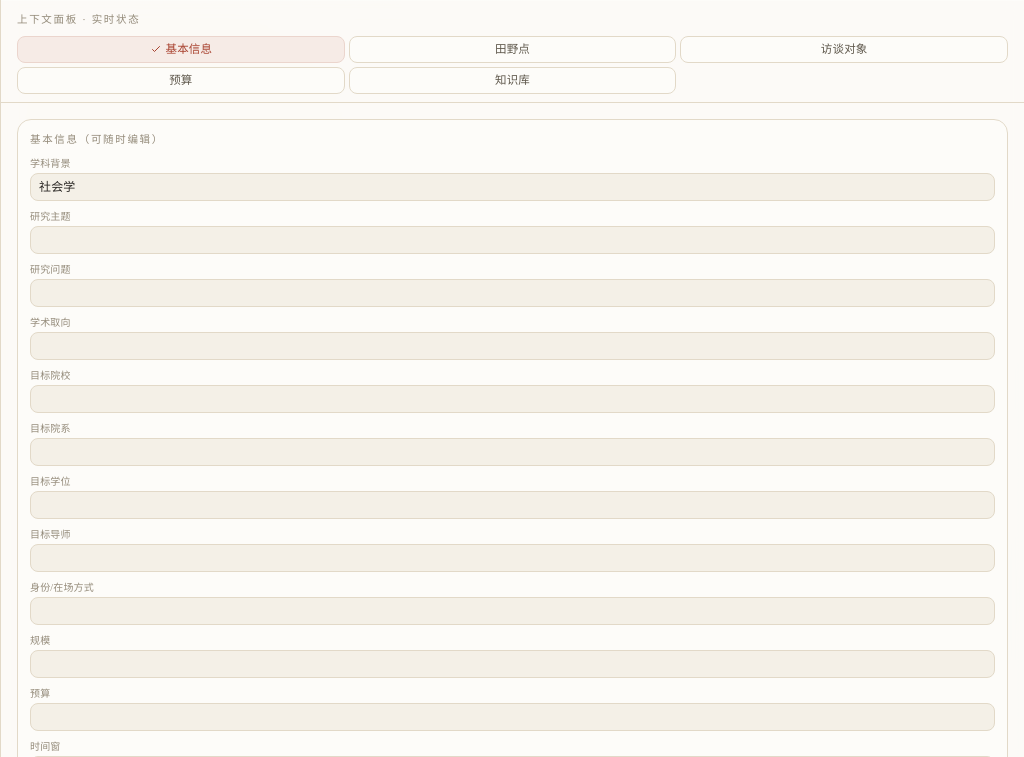
Test: RightDock 五面板接线（Tab id = ui store RightTab） › 默认基本信息面板；点 Tab 渲染对应面板
expect the text "基本信息（可随时编辑）" is shown: met, box x1=30 y1=134 x2=164 y2=145
Click the tab "预算": (181, 81) x1=17 y1=67 x2=345 y2=94
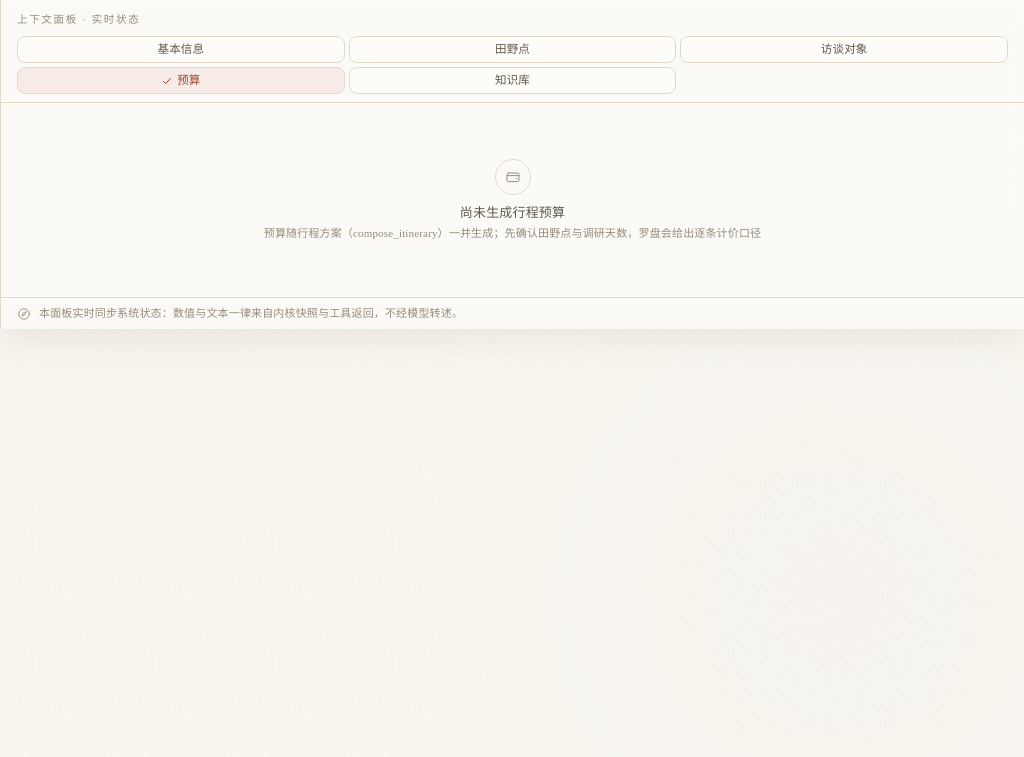
expect the text "尚未生成行程预算" is shown: met, box x1=460 y1=203 x2=565 y2=223
Click the tab "田野点": (513, 49) x1=349 y1=36 x2=676 y2=63
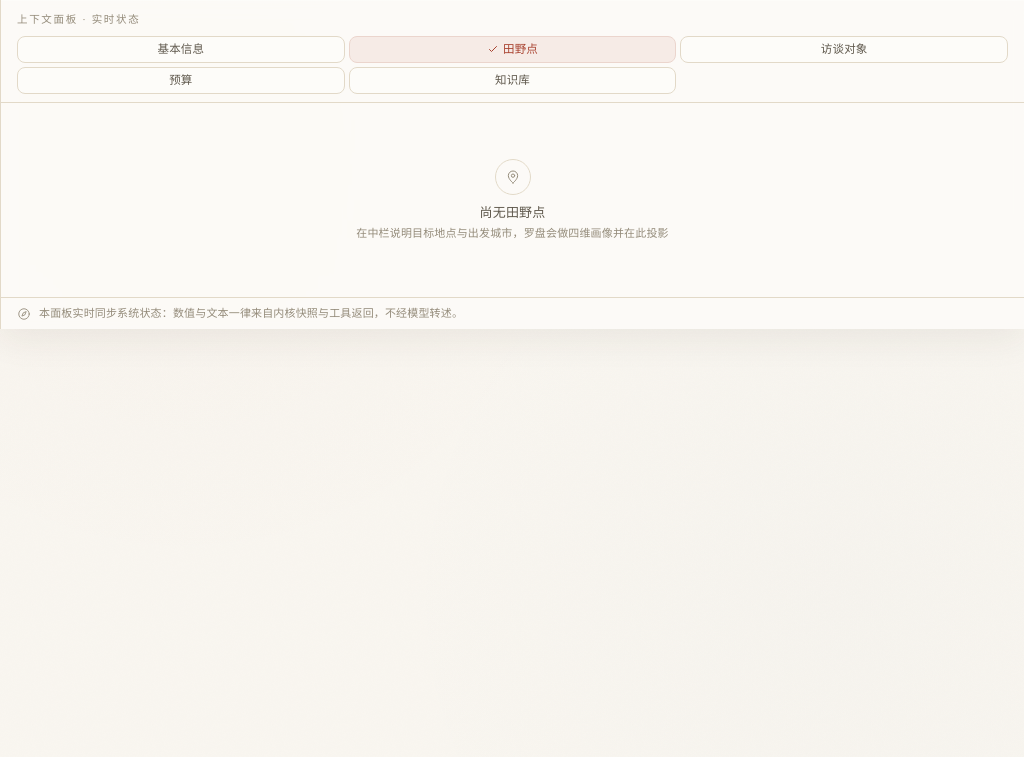
expect the text "尚无田野点" is shown: met, box x1=480 y1=203 x2=545 y2=223
Click the tab "访谈对象": (844, 49) x1=680 y1=36 x2=1008 y2=63
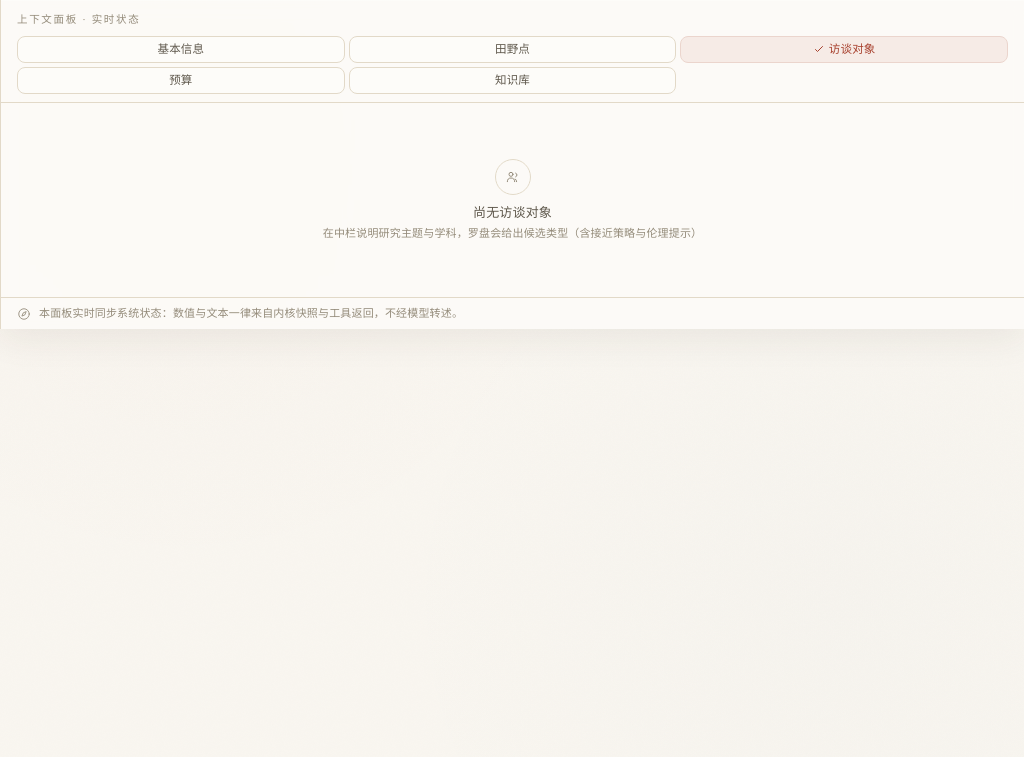
expect the text "尚无访谈对象" is shown: met, box x1=473 y1=203 x2=552 y2=223
Click the tab "知识库": (513, 81) x1=349 y1=67 x2=676 y2=94
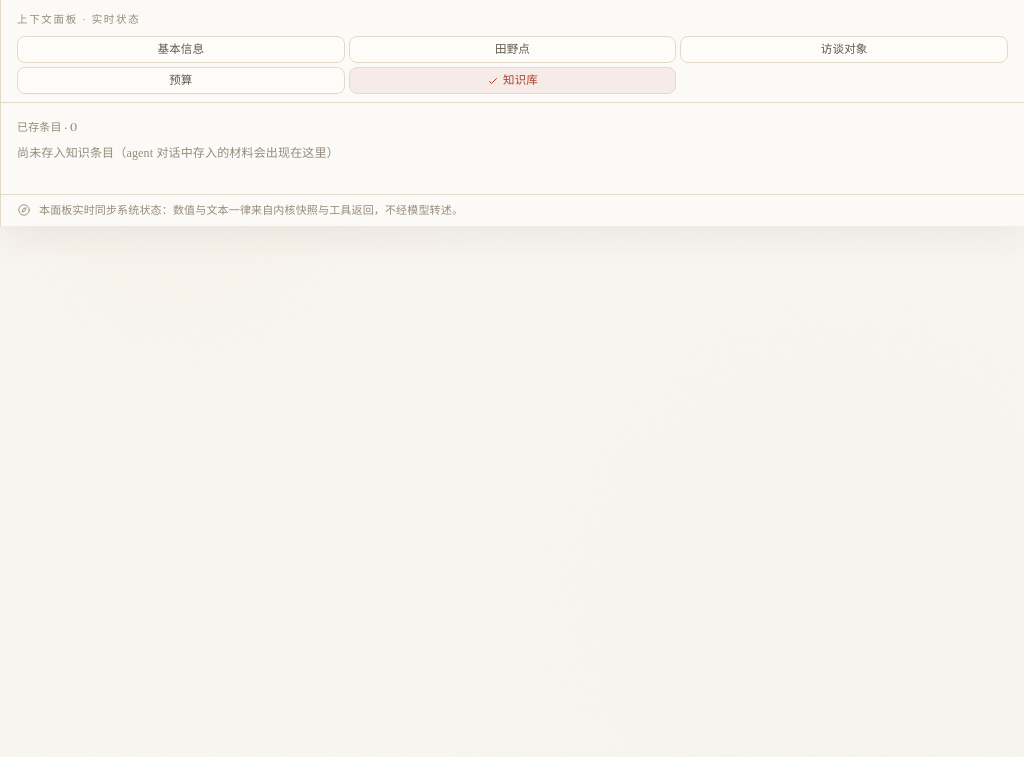
expect the text "社会学" is not shown: met
expect the text "已存条目 · 0" is shown: met, box x1=17 y1=120 x2=77 y2=134
